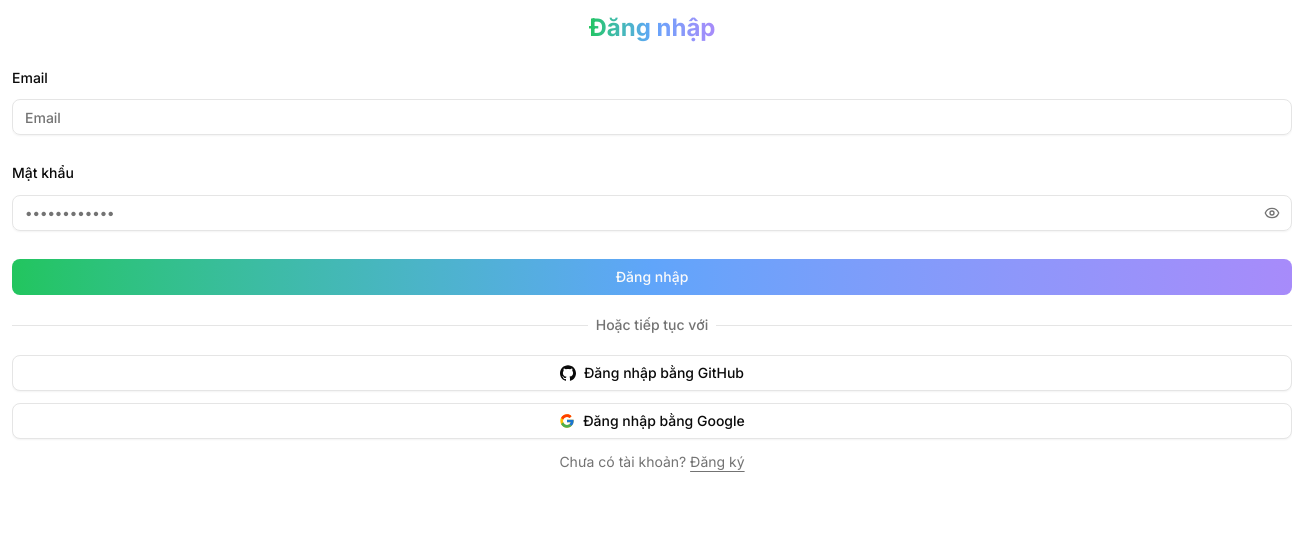
<LoginForm /> › shows validation errors when submitting an empty form
The width and height of the screenshot is (1304, 553).
What coordinates should you click on to do the following:
click the button "Đăng nhập"
I would click on:
 (652, 276)
Its box is [12,258,1292,294].
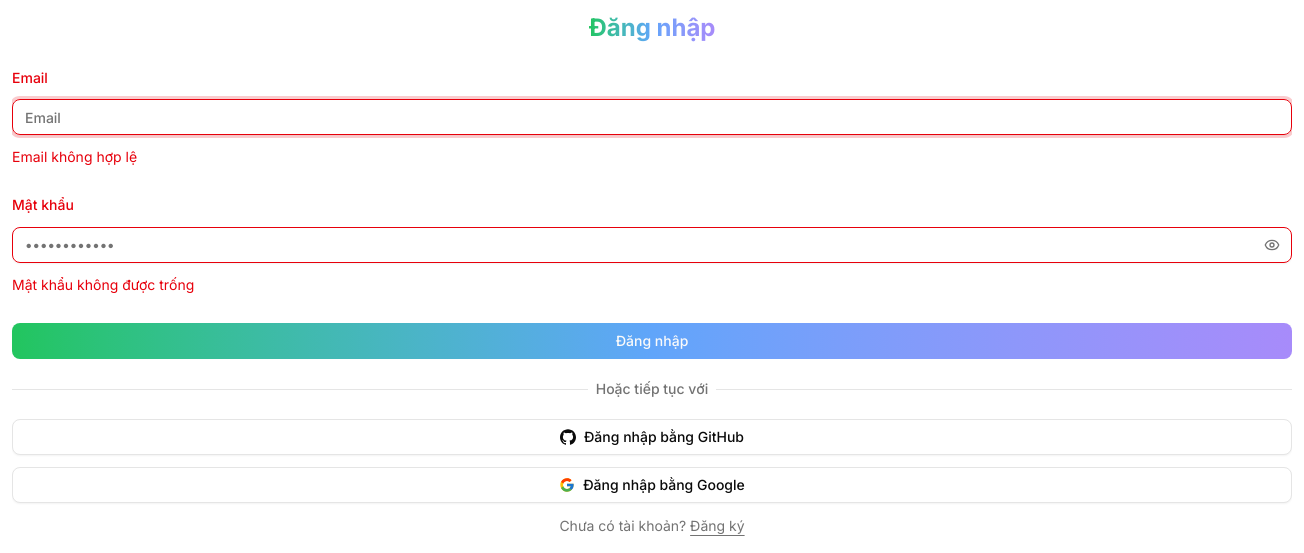
Expected: the text "Email không hợp lệ" is shown, [12,148,137,165]
Expected: the text "Mật khẩu không được trống" is shown, [12,276,194,292]
